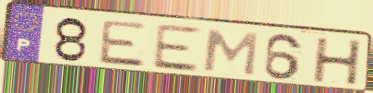6: (262, 32, 305, 82)
8: (54, 16, 89, 62)
E: (150, 22, 202, 73), (96, 19, 149, 69)
H: (312, 37, 364, 87)
M: (200, 28, 261, 78)
